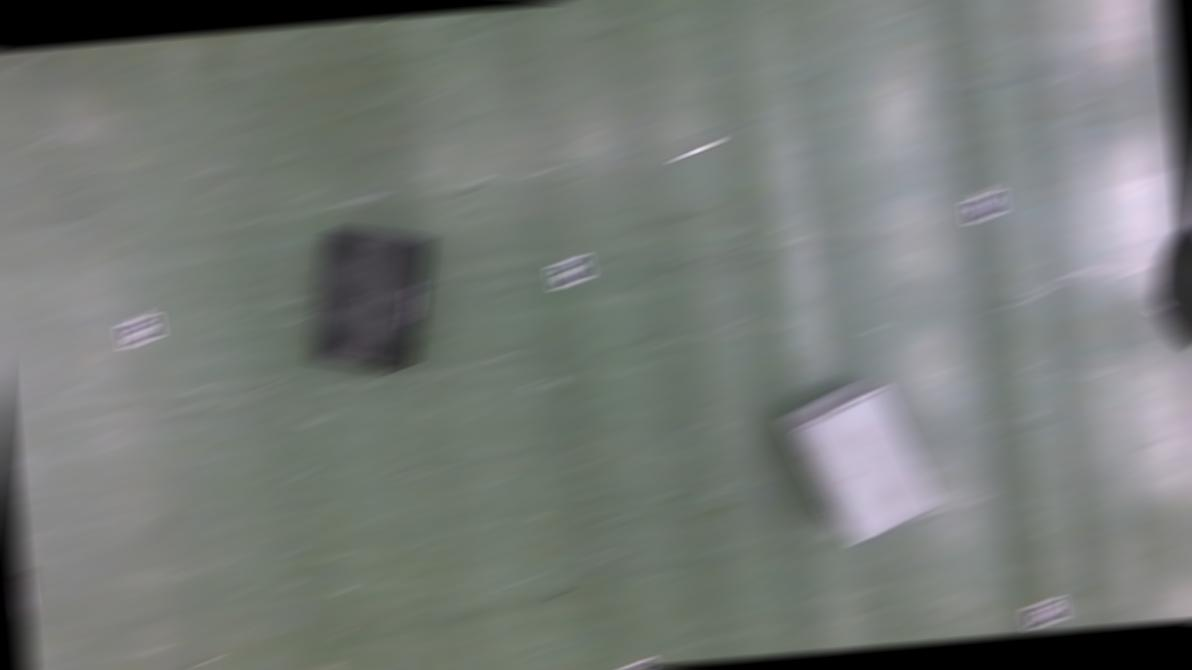probes: (672, 142, 719, 158), (14, 572, 31, 610)
rako: (774, 373, 941, 546), (296, 216, 442, 374)
